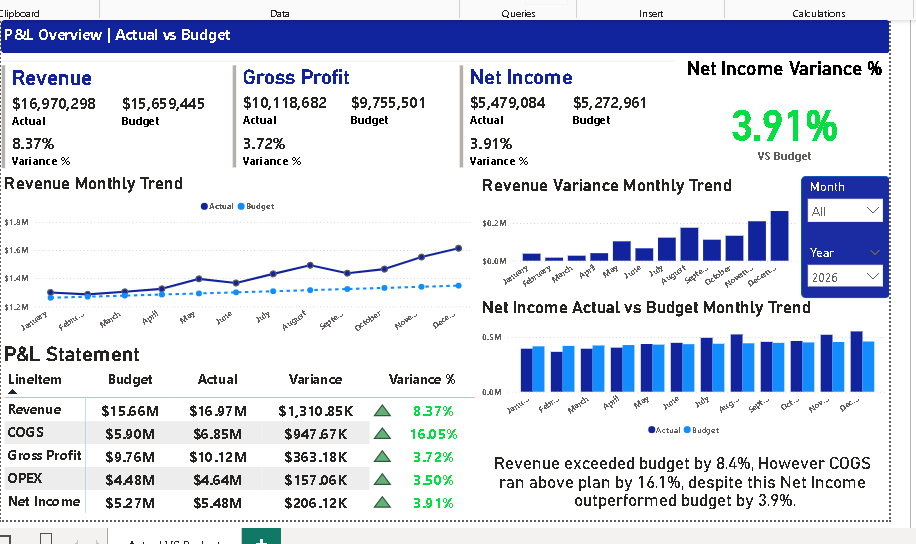

The page's visual inventory and layout, read from the dashboard file:
{"tool":"powerbi","page":{"name":"Actual VS Budget","canvas":[1280,720],"ordinal":0},"visuals":[{"type":"actionButton","box":[0,0,100,40],"z":0},{"type":"multiRowCard","title":"Revenue","fields":{"Values":["Dim_PL.LineItem","Dim_Scenario.Actual KPI","Dim_Scenario.Budget KPI","Dim_PL.P&L Variance %"]},"box":[0,48,336,176],"z":1000},{"type":"card","title":"Net Income Variance %","fields":{"Values":["Dim_PL.P&L Variance %"]},"box":[976,48,304,176],"z":2000},{"type":"multiRowCard","title":"Revenue","fields":{"Values":["Dim_PL.LineItem","Dim_Scenario.Actual KPI","Dim_Scenario.Budget KPI","Dim_PL.P&L Variance %"]},"box":[336,48,320,176],"z":3000},{"type":"multiRowCard","title":"Revenue","fields":{"Values":["Dim_PL.LineItem","Dim_Scenario.Actual KPI","Dim_Scenario.Budget KPI","Dim_PL.P&L Variance %"]},"box":[656,48,320,176],"z":4000},{"type":"lineChart","title":"Revenue Monthly Trend","fields":{"Series":["Dim_Scenario.Scenario"],"Y":["Fact_Financial.Revenue"],"Category":["Dim_Date.Date.Variation.Date Hierarchy.Month"]},"box":[0,221.7,685.4,241.9],"z":5000},{"type":"clusteredColumnChart","title":"Revenue Variance Monthly Trend","fields":{"Category":["Dim_Date.Date.Variation.Date Hierarchy.Month"],"Y":["Dim_PL.P&L Variance"],"Series":["Dim_PL.LineItem"]},"box":[688,224,464,176],"z":6000},{"type":"clusteredColumnChart","title":"Net Income Actual vs Budget Monthly Trend","fields":{"Category":["Dim_Date.Date.Variation.Date Hierarchy.Month"],"Series":["Dim_Scenario.Scenario"],"Y":["Fact_Financial.Net Income"]},"box":[688,400,592,208],"z":7000},{"type":"pivotTable","title":"P&L Statement ","fields":{"Rows":["Dim_PL.LineItem"],"Values":["Dim_Scenario.Budget KPI","Dim_Scenario.Actual KPI","Dim_PL.P&L Variance","Dim_PL.P&L Variance %"]},"box":[0,464,688,256],"z":8000},{"type":"shape","box":[0,0,1280,48],"z":9000},{"type":"shape","box":[1152,224,128,176],"z":10000},{"type":"slicer","fields":{"Values":["Dim_Date.Year"]},"box":[1152,320,128,64],"z":11000},{"type":"slicer","fields":{"Values":["Dim_Date.Date.Variation.Date Hierarchy.Month"]},"box":[1152,224,128,80],"z":12000},{"type":"textbox","box":[0,0,352,48],"z":13000},{"type":"card","fields":{"Values":["Fact_Financial.Performance Summary"]},"box":[688,608,592,112],"z":14000},{"type":"advancedSlicerVisual","fields":{"Values":["Dim_Scenario.Scenario"]},"box":[896,0,384,48],"z":14001}]}

Visuals, with their boxes on the page's 1280x720 design canvas (x1, y1, x2, y2). These are canvas units, not pixel positions in the 916x544 screenshot, which may show the page scaled, cropped or inside an application window:
actionButton: box=[0, 0, 100, 40]
"Revenue" multiRowCard: box=[0, 48, 336, 224]
"Net Income Variance %" card: box=[976, 48, 1280, 224]
"Revenue" multiRowCard: box=[336, 48, 656, 224]
"Revenue" multiRowCard: box=[656, 48, 976, 224]
"Revenue Monthly Trend" lineChart: box=[0, 222, 685, 464]
"Revenue Variance Monthly Trend" clusteredColumnChart: box=[688, 224, 1152, 400]
"Net Income Actual vs Budget Monthly Trend" clusteredColumnChart: box=[688, 400, 1280, 608]
"P&L Statement " pivotTable: box=[0, 464, 688, 720]
shape: box=[0, 0, 1280, 48]
shape: box=[1152, 224, 1280, 400]
slicer - Dim_Date.Year: box=[1152, 320, 1280, 384]
slicer - Dim_Date.Date.Variation.Date Hierarchy.Month: box=[1152, 224, 1280, 304]
textbox: box=[0, 0, 352, 48]
card - Fact_Financial.Performance Summary: box=[688, 608, 1280, 720]
advancedSlicerVisual - Dim_Scenario.Scenario: box=[896, 0, 1280, 48]
